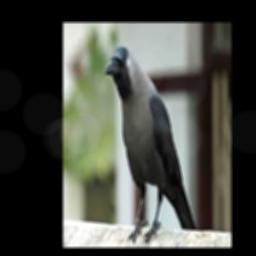Crow: (104, 45, 197, 245)
